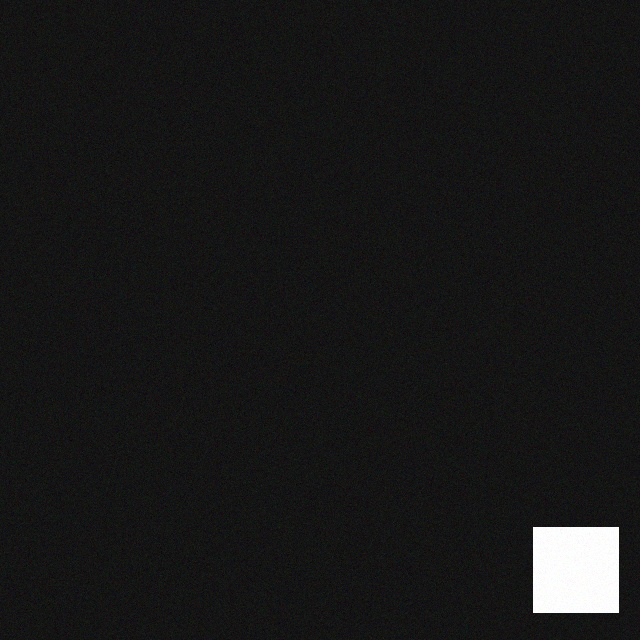square: (535, 516, 620, 601)
